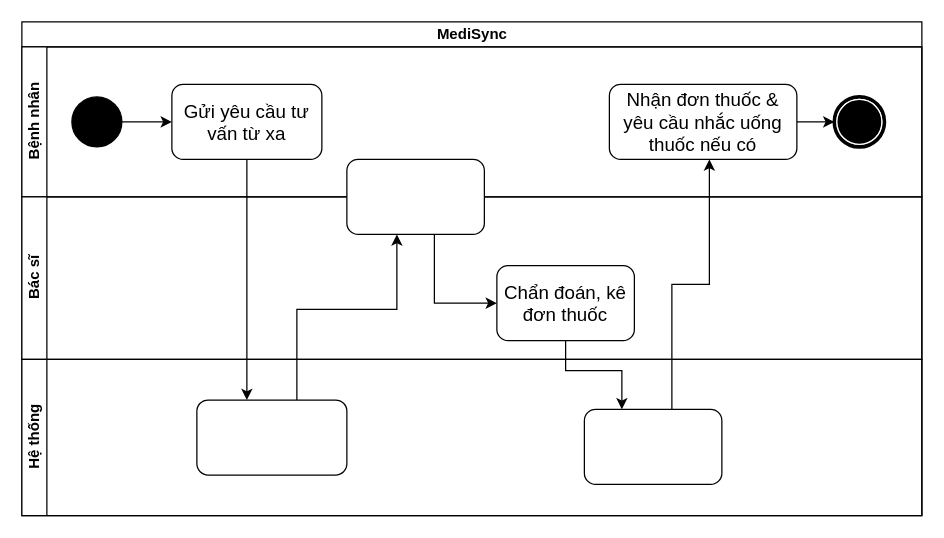
The diagram is 944 pixels wide and 538 high, and some of its shapes have lost their labels. Each missing label, with the centre of its shape:
"Kiểm tra tương tác thuốc" belongs at point 652,446.
"Tham gia khám trực tuyến" belongs at point 415,196.
"Đặt lịch và gửi thông báo" belongs at point 271,437.
